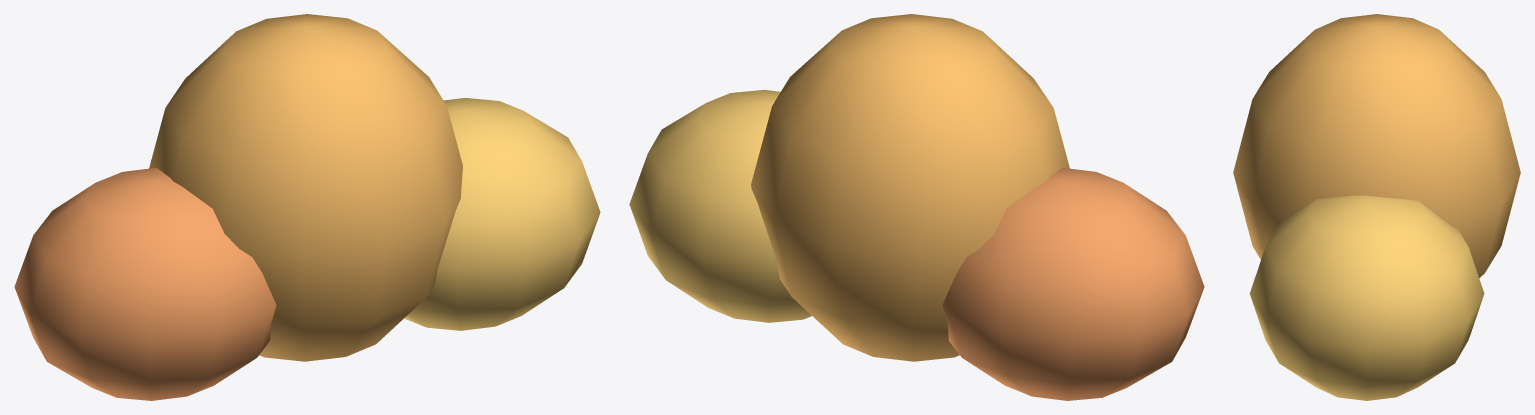
File: bush_mounded_autumn.glb
3 views of the same model, side by side, from view 1: azimuth 30°, elevation 25°; view 2: azimuth 150°, elevation 25°; view 3: azimuth 270°, elevation 25° (orthographic). The views are drawn at different scales.
Size of the model in its own units: 1.74 by 0.98 by 0.8701.
